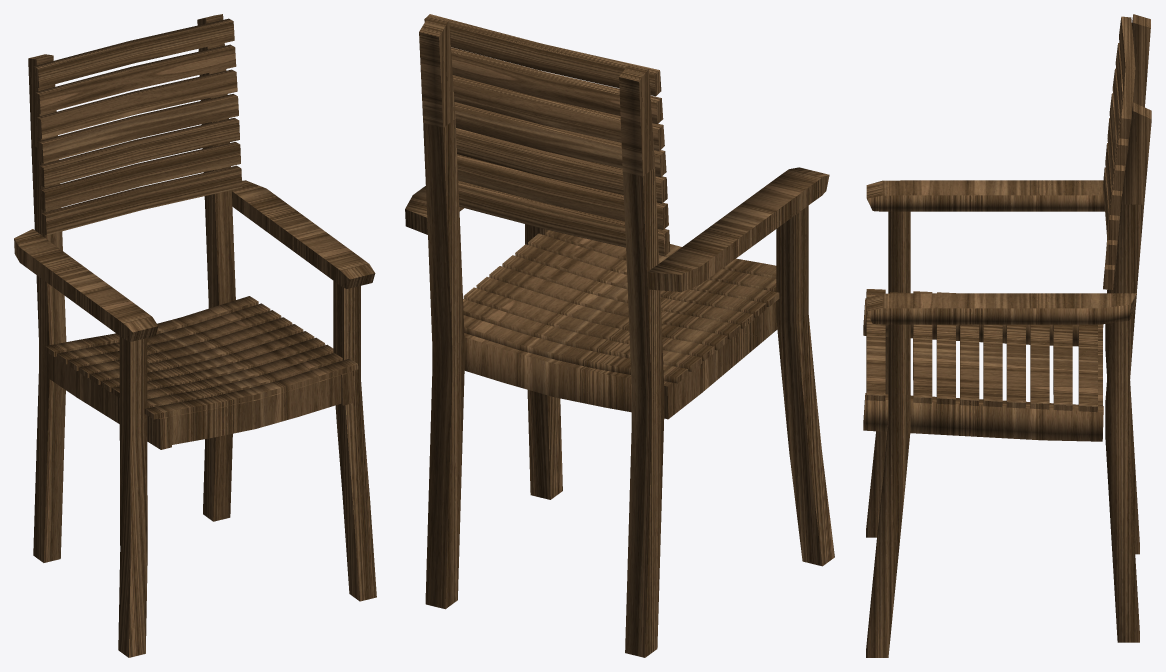
File: chair.DAE
3 views of the same model, side by side, from view 1: azimuth 30°, elevation 25°; view 2: azimuth 150°, elevation 25°; view 3: azimuth 270°, elevation 25° (orthographic). The views are drawn at different scales.
Parts seen in each view (by area): view 1: Chair_pCube21, Chair_pCube19, Chair_pCube16, Chair_pCube17, Chair_pCube20, Chair_pCube18, pCube1_Chair, Chair_pCube28, Chair_pCube26, Chair_pCube27, Chair_pCube23, Chair_pCube25 (+13 smaller); view 2: Chair_pCube17, Chair_pCube19, Chair_pCube21, Chair_pCube20, Chair_pCube2, Chair_pCube22, Chair_pCube23, Chair_pCube24, Chair_pCube27, Chair_pCube26, Chair_pCube28, Chair_pCube25 (+13 smaller); view 3: Chair_pCube17, Chair_pCube18, Chair_pCube16, Chair_pCube20, Chair_pCube3, Chair_pCube21, Chair_pCube19, Chair_pCube14, Chair_pCube5, Chair_pCube15, Chair_pCube12, Chair_pCube9 (+12 smaller).
Part boxes in pixels (x1=…): Chair_pCube21: x1=118, y1=336, x2=147, y2=657; Chair_pCube19: x1=28, y1=54, x2=66, y2=562; Chair_pCube16: x1=333, y1=281, x2=376, y2=601; Chair_pCube17: x1=197, y1=14, x2=235, y2=521; Chair_pCube20: x1=14, y1=229, x2=158, y2=341; Chair_pCube18: x1=232, y1=180, x2=375, y2=288; pCube1_Chair: x1=171, y1=375, x2=341, y2=444; Chair_pCube28: x1=41, y1=165, x2=242, y2=235; Chair_pCube26: x1=39, y1=118, x2=239, y2=187; Chair_pCube27: x1=40, y1=142, x2=240, y2=211; Chair_pCube23: x1=35, y1=44, x2=236, y2=114; Chair_pCube25: x1=37, y1=94, x2=238, y2=163; Chair_pCube17: x1=419, y1=15, x2=464, y2=609; Chair_pCube19: x1=619, y1=64, x2=664, y2=657; Chair_pCube21: x1=776, y1=205, x2=834, y2=566; Chair_pCube20: x1=647, y1=167, x2=829, y2=291; Chair_pCube2: x1=464, y1=333, x2=631, y2=412; Chair_pCube22: x1=424, y1=14, x2=661, y2=96; Chair_pCube23: x1=451, y1=47, x2=663, y2=124; Chair_pCube24: x1=452, y1=75, x2=664, y2=150; Chair_pCube27: x1=457, y1=154, x2=668, y2=229; Chair_pCube26: x1=456, y1=128, x2=667, y2=203; Chair_pCube28: x1=458, y1=180, x2=670, y2=256; Chair_pCube25: x1=454, y1=102, x2=666, y2=177; Chair_pCube17: x1=1105, y1=102, x2=1151, y2=642; Chair_pCube18: x1=866, y1=293, x2=1136, y2=324; Chair_pCube16: x1=866, y1=324, x2=910, y2=657; Chair_pCube20: x1=866, y1=180, x2=1104, y2=211; Chair_pCube3: x1=863, y1=393, x2=1103, y2=441; Chair_pCube21: x1=866, y1=211, x2=910, y2=537; Chair_pCube19: x1=1105, y1=14, x2=1150, y2=554; Chair_pCube14: x1=1078, y1=324, x2=1097, y2=412; Chair_pCube5: x1=866, y1=289, x2=885, y2=401; Chair_pCube15: x1=1053, y1=324, x2=1072, y2=410; Chair_pCube12: x1=1030, y1=324, x2=1049, y2=409; Chair_pCube9: x1=1006, y1=324, x2=1025, y2=408.
Size of the model in its own units: 0.5203 by 0.9986 by 0.4911.
Materials: 1 (1 with a texture image).
